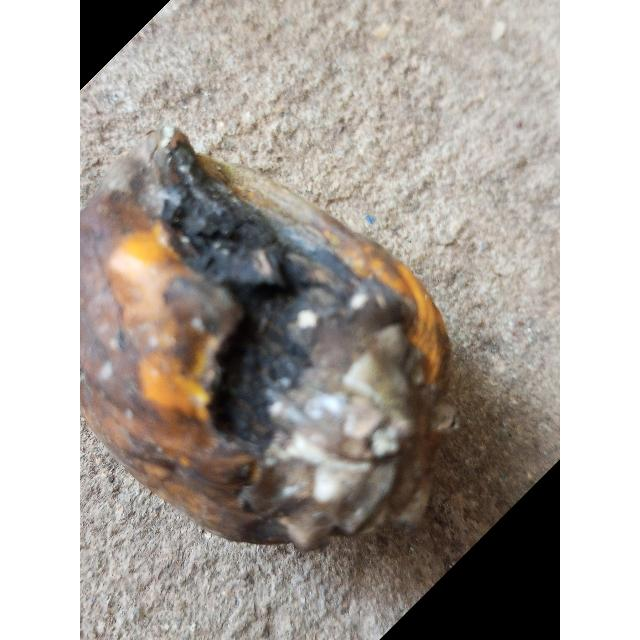damaged: (80, 126, 455, 550)
